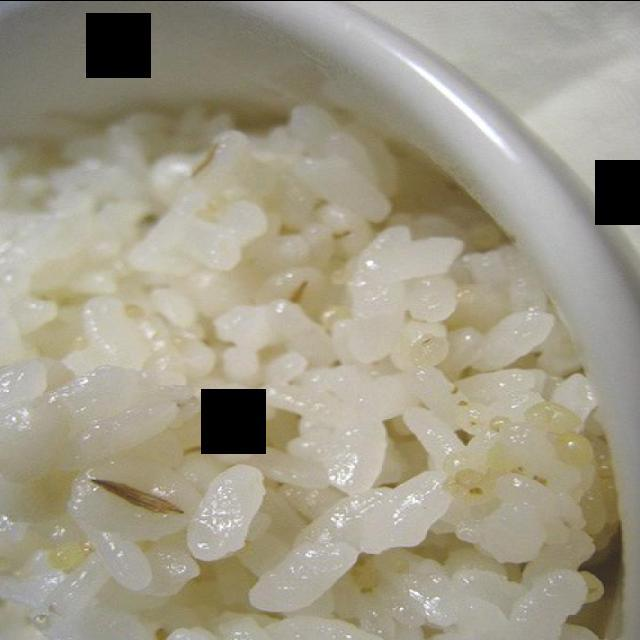rice: (0, 106, 620, 640)
